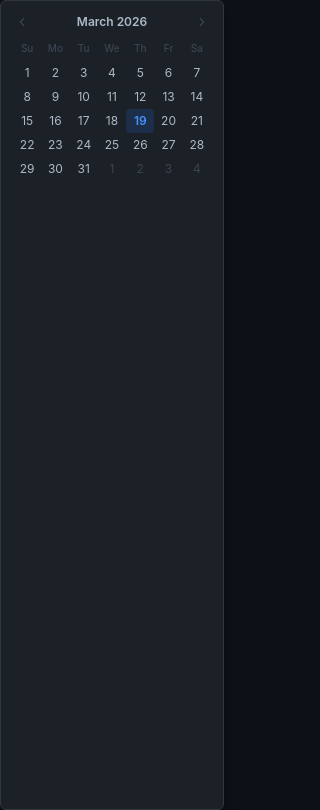
Test case: DatePicker › navigates to the next month
Press the mouse on the button named "Next month" at (202, 22), box left=193, top=13, right=211, bottom=31
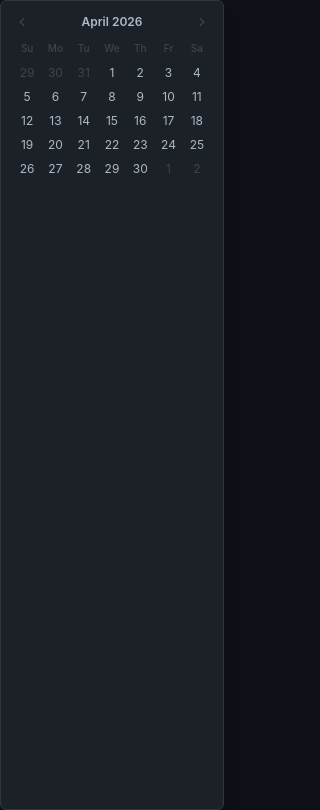
Check: the text "April 2026" is shown, box left=82, top=14, right=142, bottom=30
